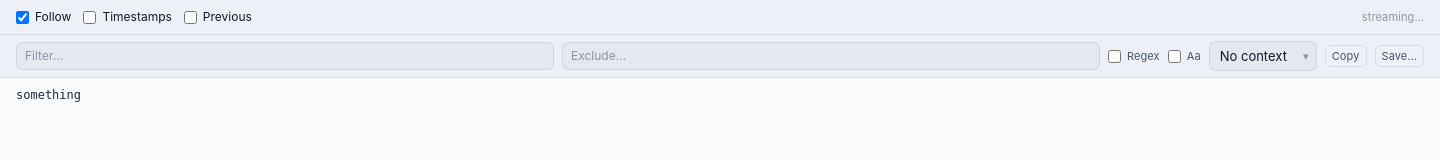
it: LogViewer › says so when a filter matches nothing
Expected: the text "something" is shown, [16,88,81,102]
Step 1. Type "nothing matches this" into the field named "Filter lines" → (285, 56), box [16,42,554,70]
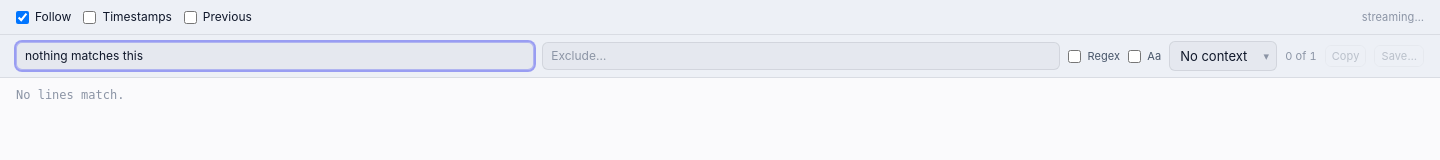
Expected: the text "No lines match." is shown, [16,88,124,102]
